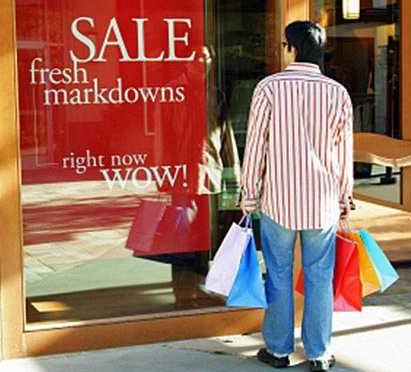Not_Face: (280, 26, 328, 60)
